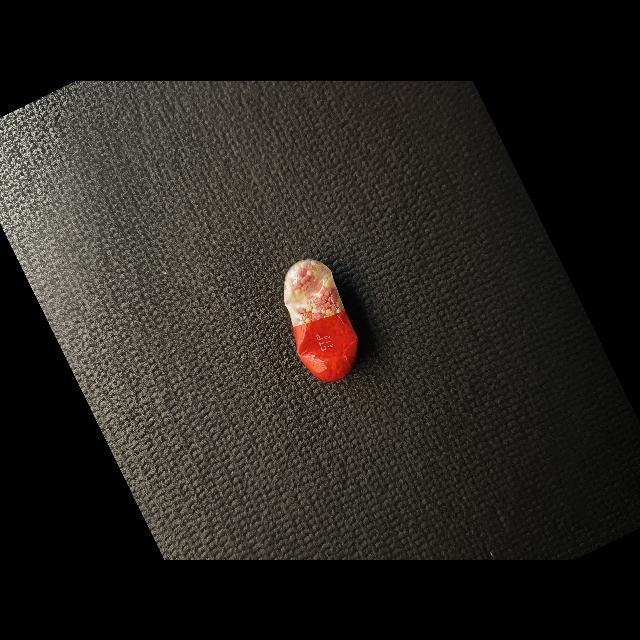Defective Capsule: (284, 258, 358, 381)
